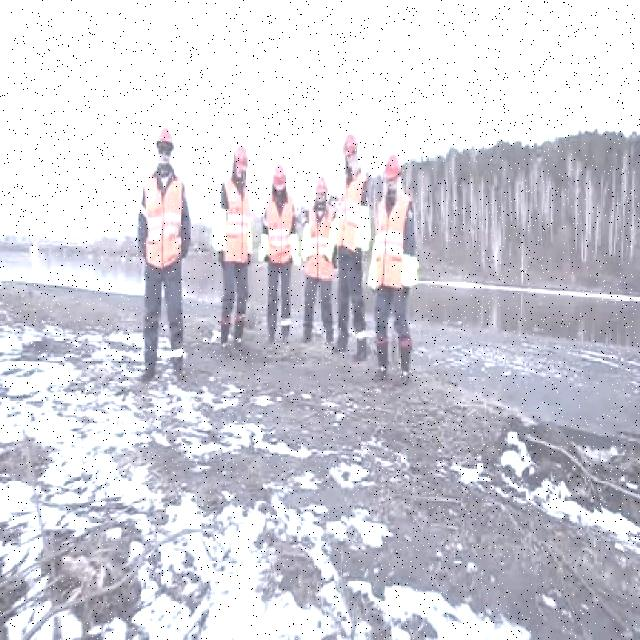Gloves: (354, 246, 360, 271), (333, 244, 338, 270)
Helmet: (143, 169, 183, 269), (230, 143, 250, 172), (272, 160, 290, 191), (343, 130, 359, 162), (157, 122, 174, 150), (386, 150, 402, 178), (316, 173, 330, 196)
Mask: (135, 173, 191, 390), (372, 191, 416, 387), (336, 166, 370, 362), (213, 182, 252, 347), (260, 186, 296, 349), (300, 202, 336, 350), (372, 190, 410, 290), (334, 173, 369, 254), (263, 192, 294, 266), (222, 182, 248, 264), (306, 203, 334, 277), (356, 193, 369, 252), (212, 206, 228, 252), (401, 250, 416, 292), (325, 217, 338, 263), (366, 247, 377, 293), (301, 227, 310, 266), (291, 229, 300, 260), (260, 230, 268, 264)
